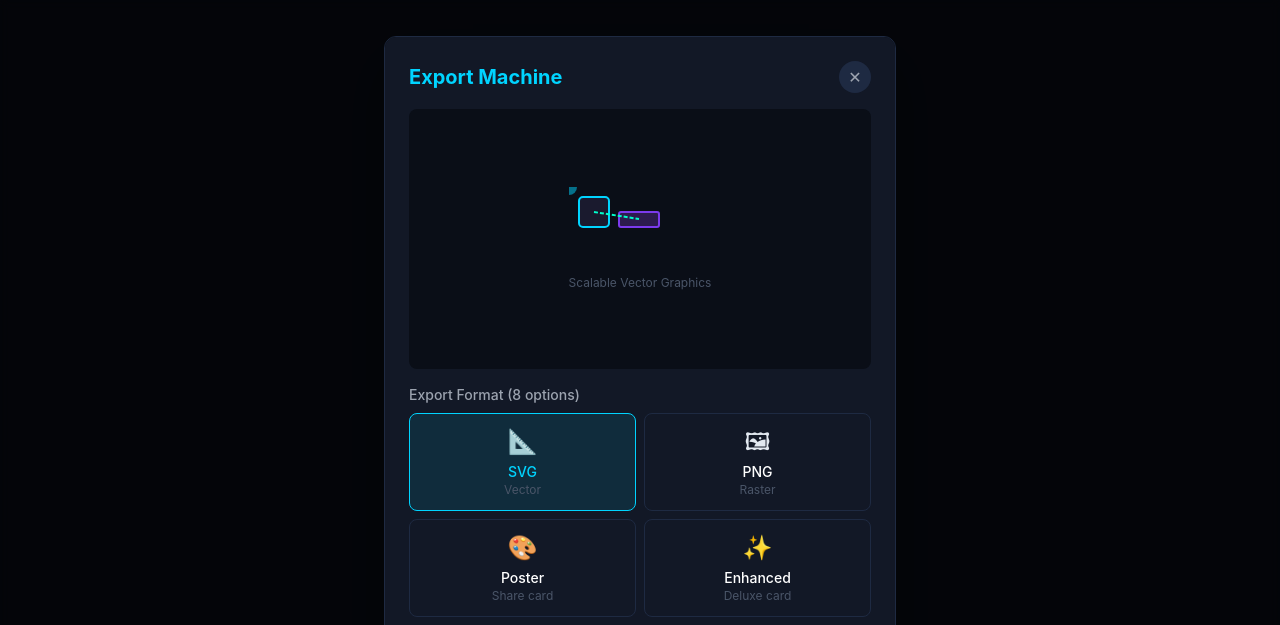
Scenario: ExportModal › AC5: Dimension indicator › shows ~400px dimension for 1x resolution
Click the tab "🖼 PNG Raster" at (758, 462), box [644,413,871,511]
(page scrolled)
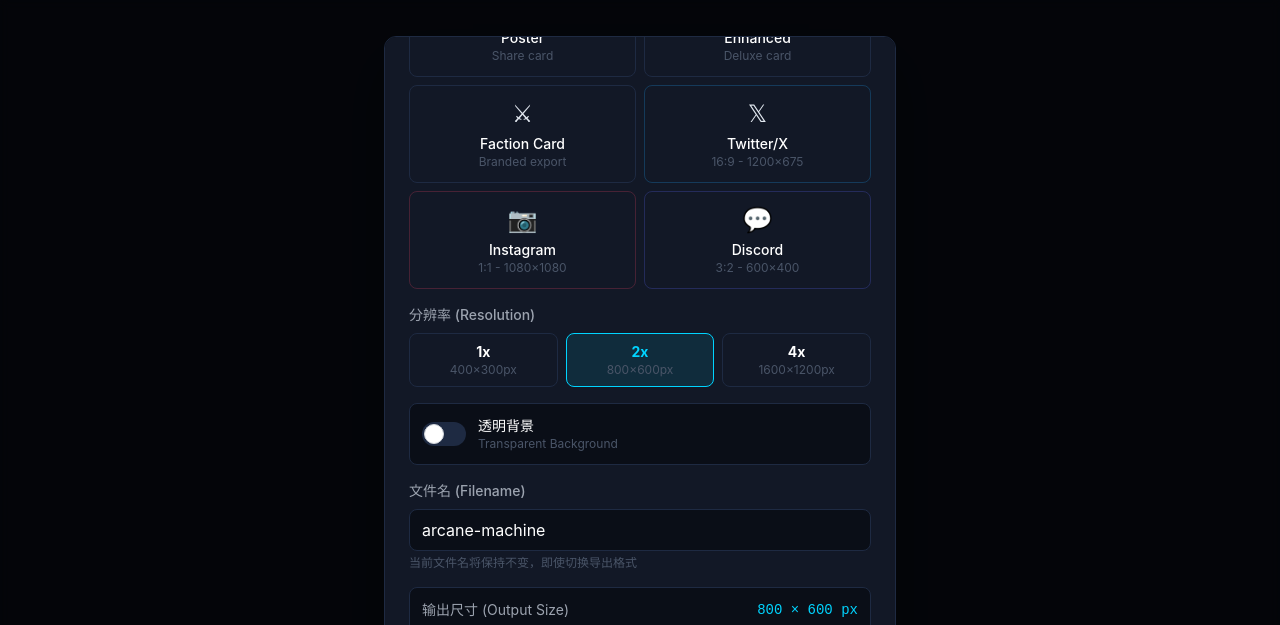
Click the first resolution button (1x)
Click the button with aria-label "Resolution 1x" at (483, 360), box [409,333,558,387]
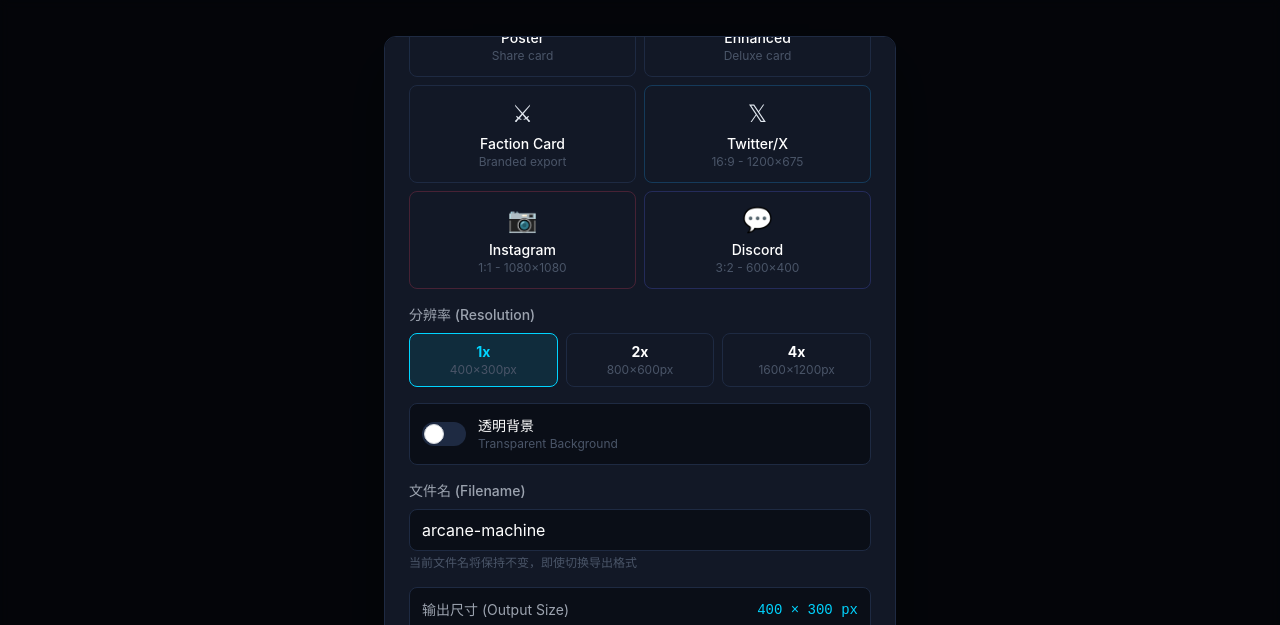
Result: the text with test id "dimension-indicator" reads "400 × 300 px" at [757,602,782,618]
